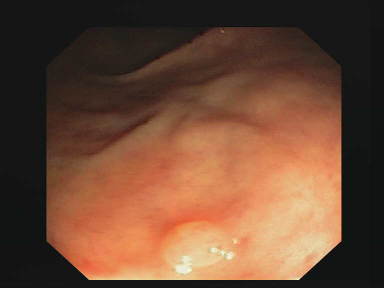polyp: (160, 199, 240, 274)
